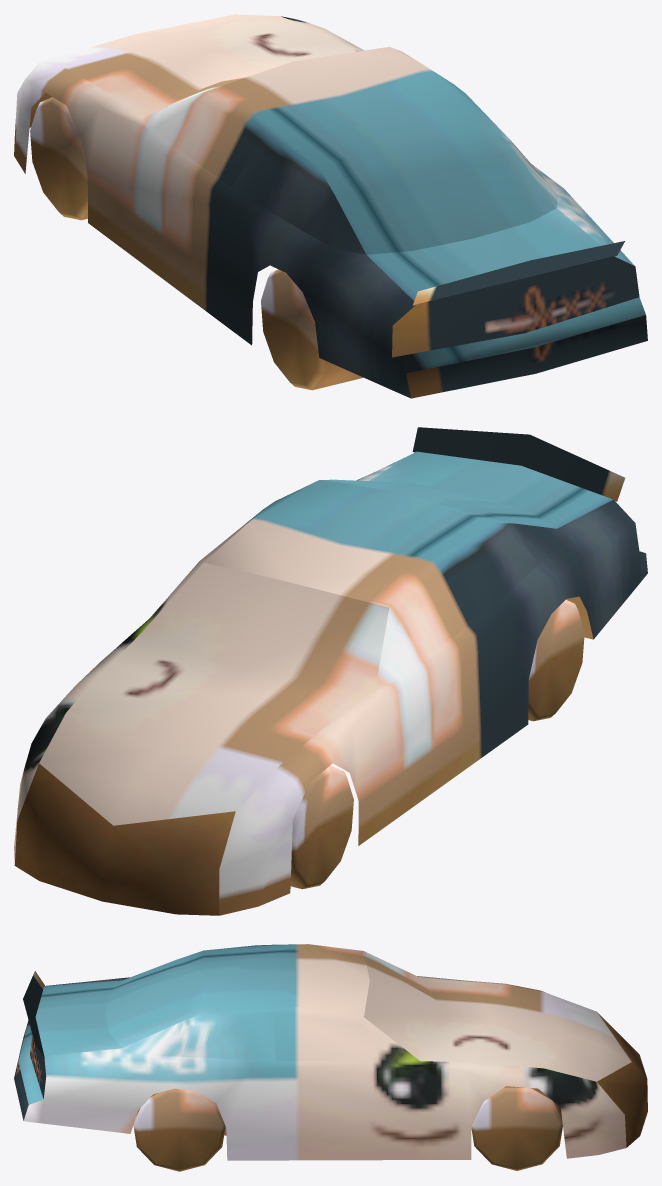
File: view.ico.obj
3 views of the same model, one above another, from view 1: azimuth 30°, elevation 25°; view 2: azimuth 150°, elevation 25°; view 3: azimuth 270°, elevation 25° (orthographic). The views are drawn at different scales.
Size of the model in its own units: 1.87 by 1.31 by 5.
